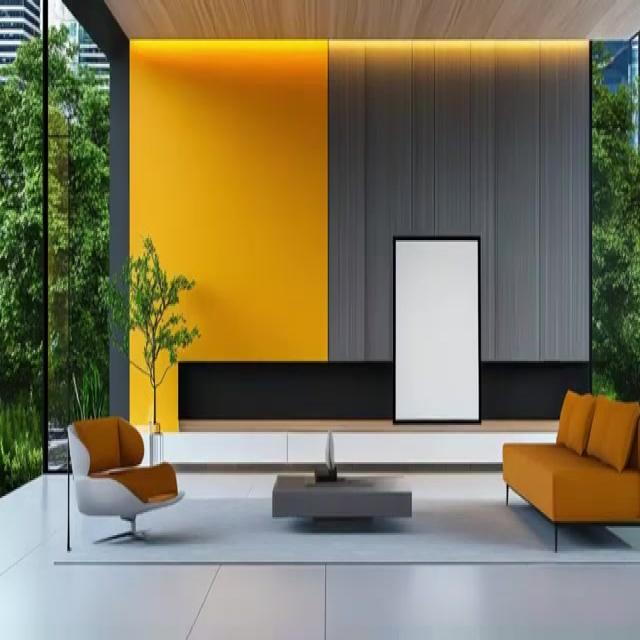obstacle: (501, 388, 639, 551), (66, 414, 185, 548), (271, 473, 412, 521)
